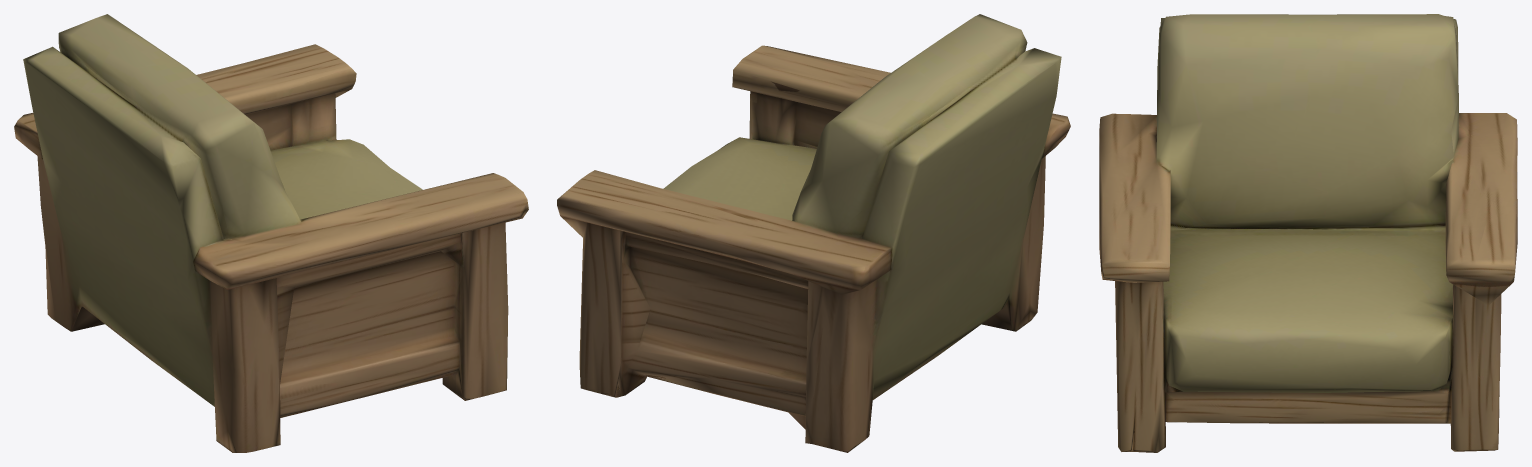
Rendered from chair.fbx.
3 views of the same model, side by side, from view 1: azimuth 30°, elevation 25°; view 2: azimuth 150°, elevation 25°; view 3: azimuth 270°, elevation 25° (orthographic).
Visible parts, largest first — view 1: tripo_node_0bbaa2fd; view 2: tripo_node_0bbaa2fd; view 3: tripo_node_0bbaa2fd.
Part boxes in pixels (x1,y1,x2,y2): tripo_node_0bbaa2fd: (14, 14, 528, 452); tripo_node_0bbaa2fd: (557, 14, 1070, 452); tripo_node_0bbaa2fd: (1099, 14, 1517, 452).
Bounding box in the file's own units: 0.9059 × 0.8099 × 0.9814.
